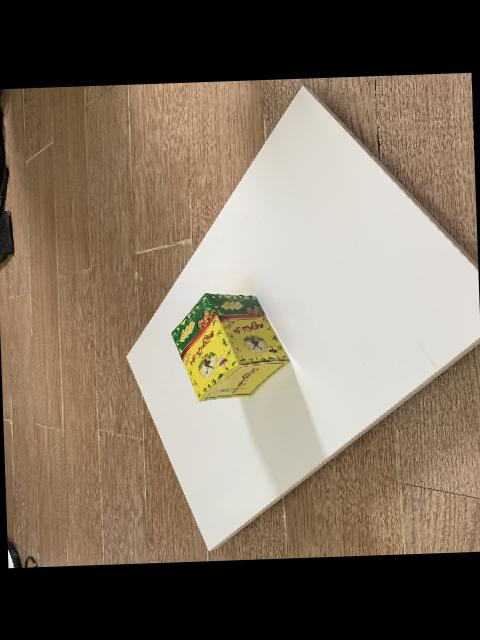luong_kho: (172, 292, 291, 401)
